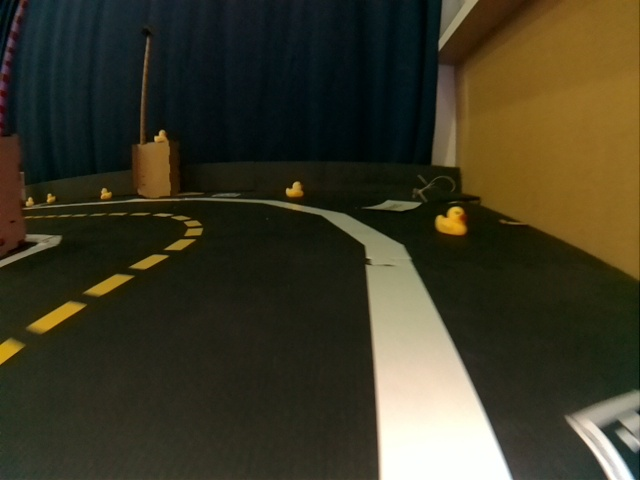Duckie: (436, 207, 466, 235), (286, 181, 304, 197), (154, 130, 167, 142), (100, 188, 112, 199), (47, 194, 56, 203), (26, 197, 34, 206)
QR code: (575, 395, 638, 480), (213, 190, 241, 200)
